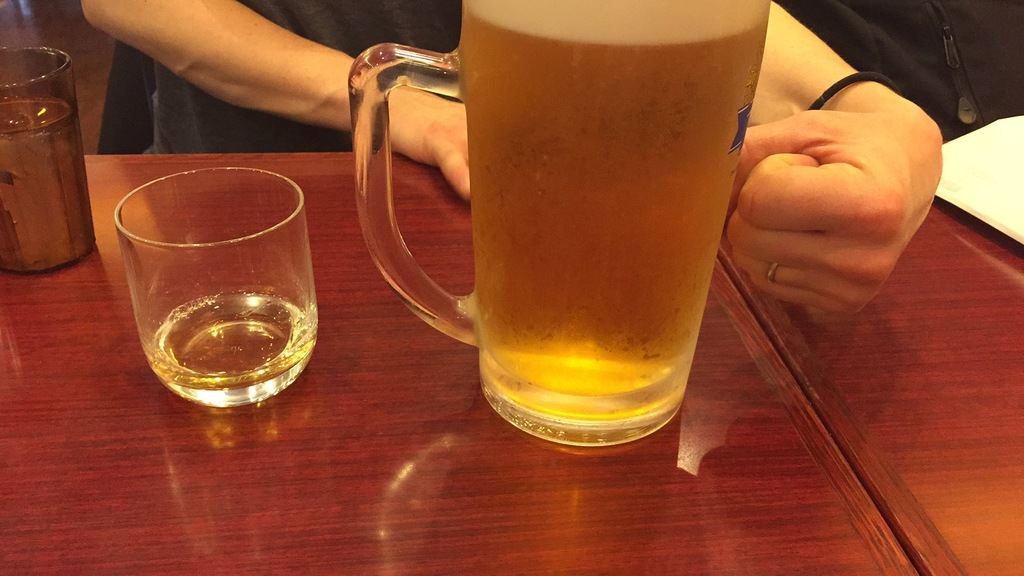Beer: (345, 0, 762, 478)
